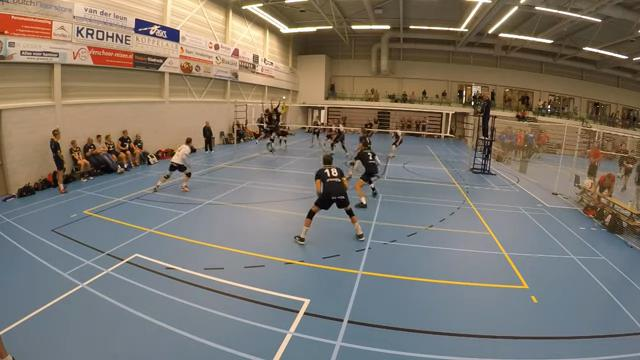muro: (250, 95, 271, 146), (267, 95, 287, 148)
